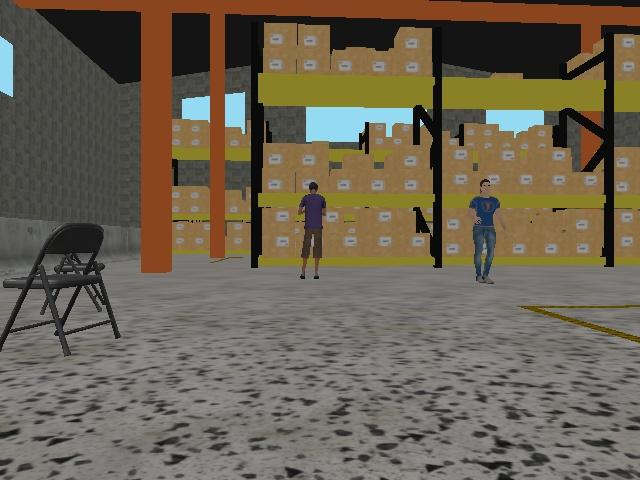chair: (0, 220, 120, 359)
person: (467, 178, 510, 285), (297, 181, 327, 281)
